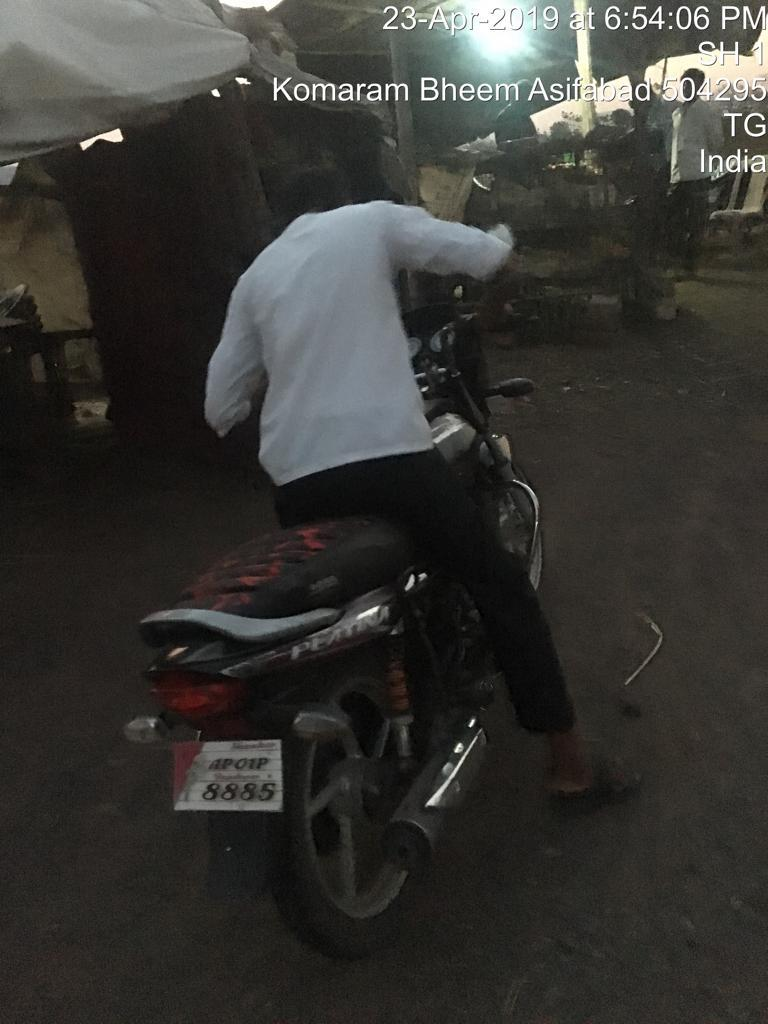plate: (160, 734, 312, 822)
